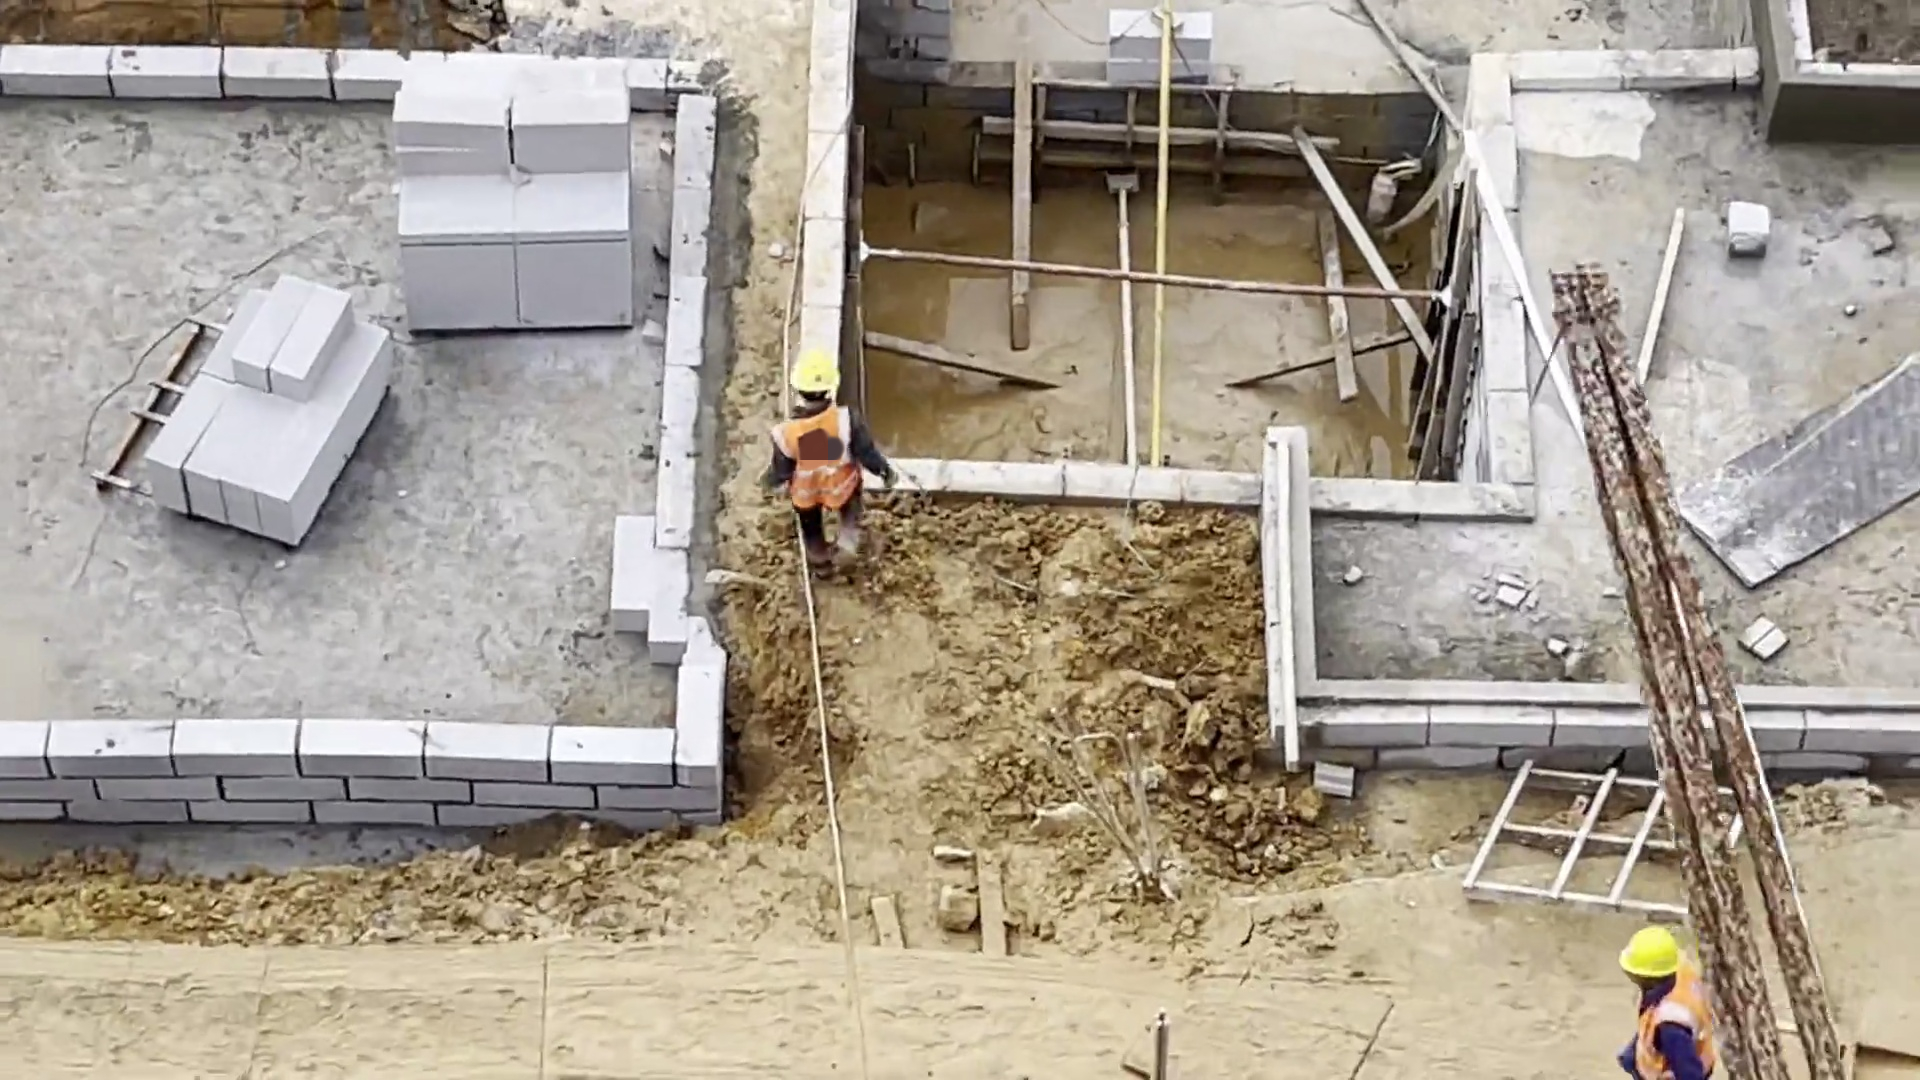helmet: (1618, 925, 1681, 980), (790, 346, 842, 395)
person: (755, 346, 895, 574), (1606, 925, 1714, 1080)
vest: (1632, 948, 1715, 1080), (777, 399, 858, 508)
